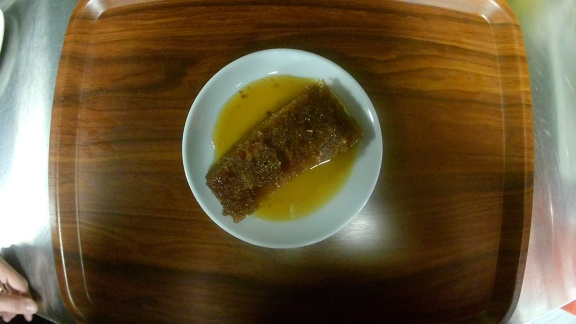ekmekkadayifi: (182, 48, 383, 246)
